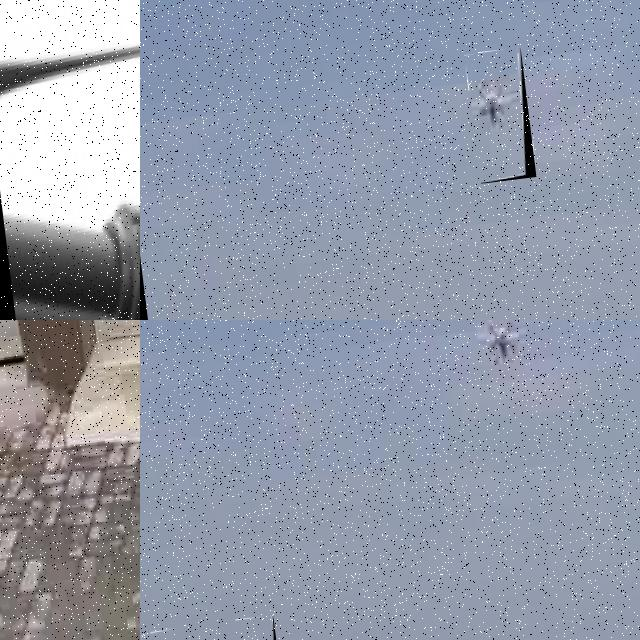0: (464, 48, 536, 184), (140, 615, 283, 640)
drone: (0, 0, 140, 320)
